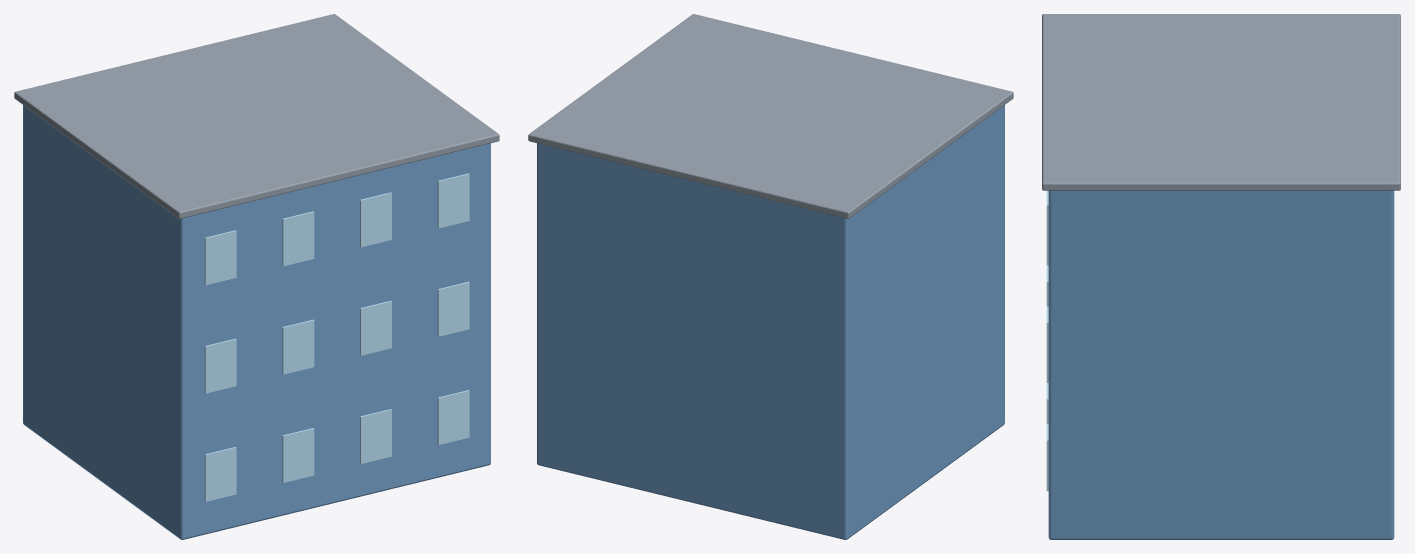
File: Jumping_LowBuilding.fbx
3 views of the same model, side by side, from view 1: azimuth 30°, elevation 25°; view 2: azimuth 150°, elevation 25°; view 3: azimuth 270°, elevation 25° (orthographic). The views are drawn at different scales.
Parts seen in each view (by area): view 1: LowBuilding; view 2: LowBuilding; view 3: LowBuilding.
Boxes of the visible parts, bbox=[...] form: LowBuilding: bbox=[14, 14, 499, 539]; LowBuilding: bbox=[528, 14, 1013, 539]; LowBuilding: bbox=[1042, 14, 1400, 539].
Size of the model in its own units: 9.3 by 9.2 by 8.3.
